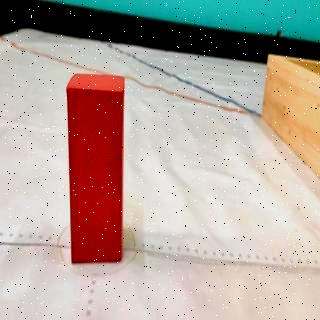redbox: (66, 72, 125, 265)
